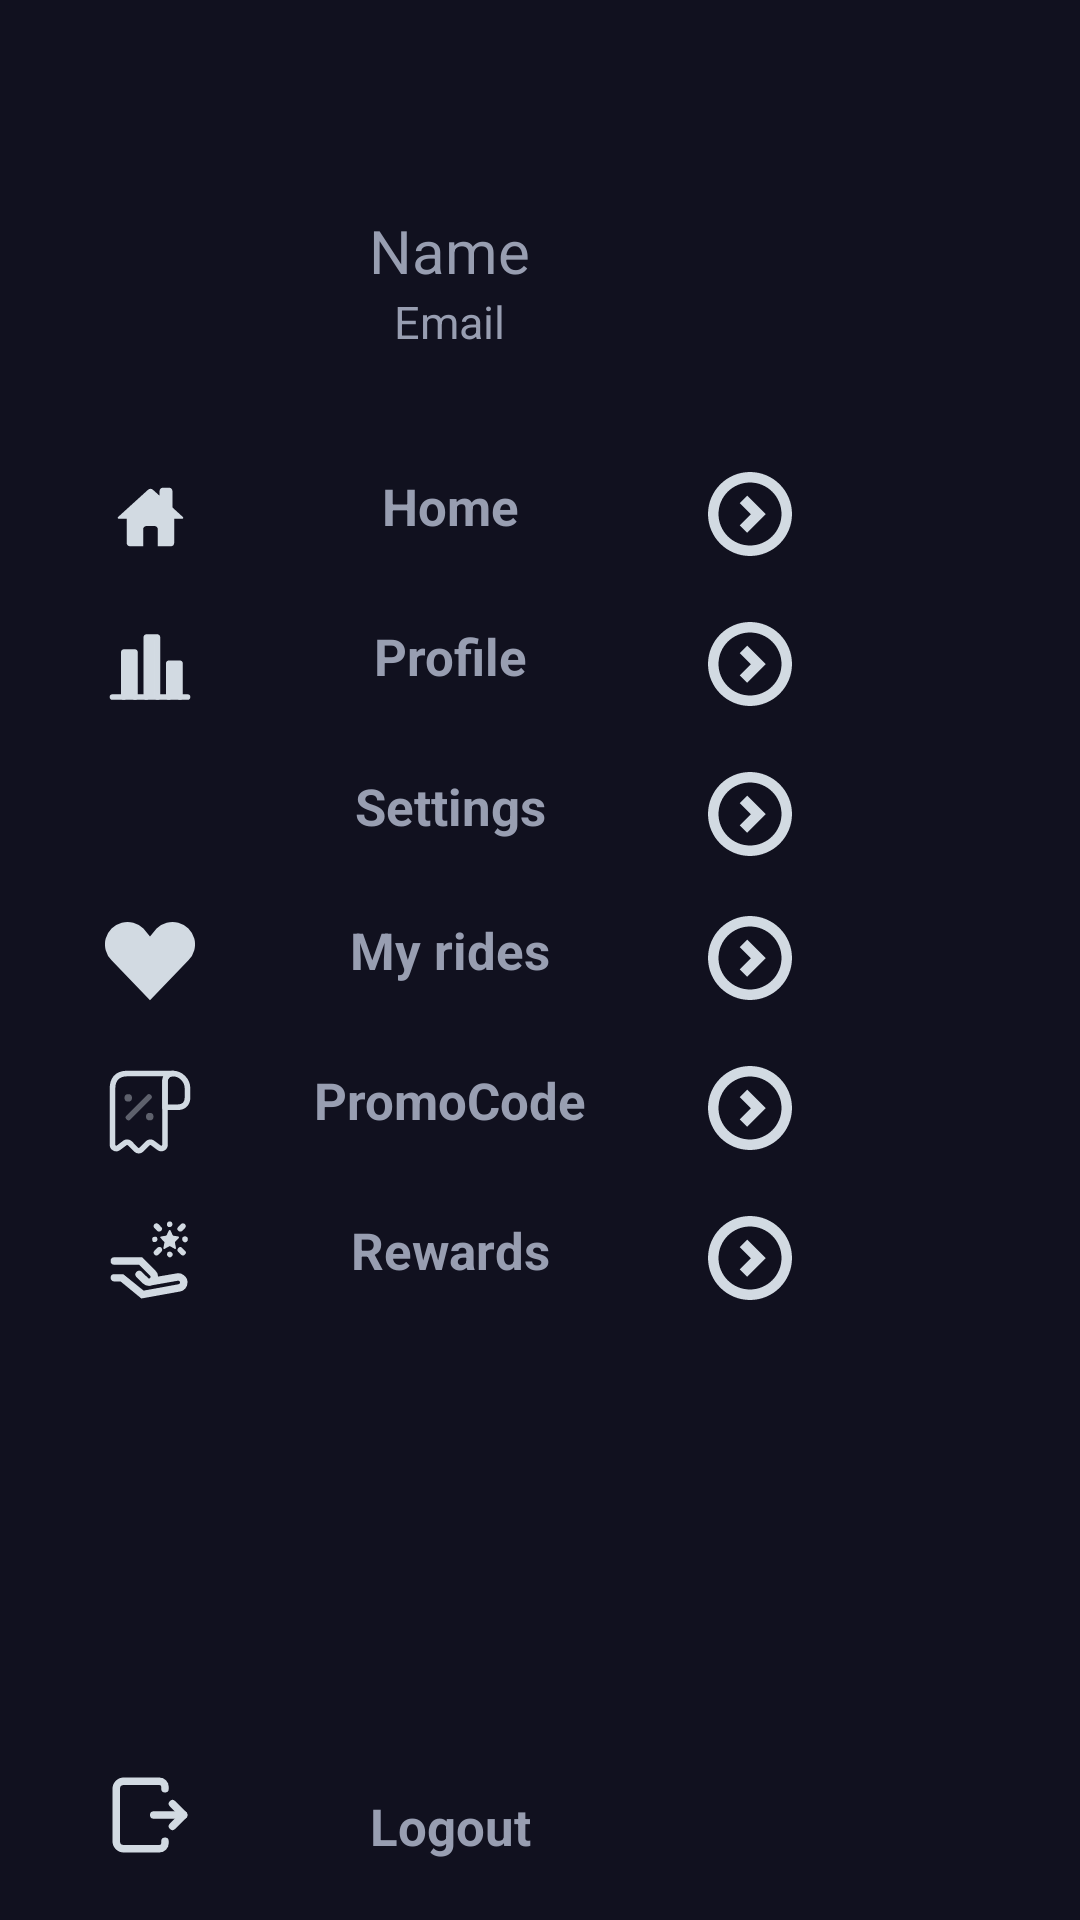

Named icons in this screenshot (1080px×1920px) and their bounding boxes, (x1, y1, x2, y2):
front arrow: (708, 472, 792, 556), (708, 622, 792, 706), (708, 772, 792, 856), (708, 916, 792, 1000), (708, 1066, 792, 1150), (708, 1216, 792, 1300)
